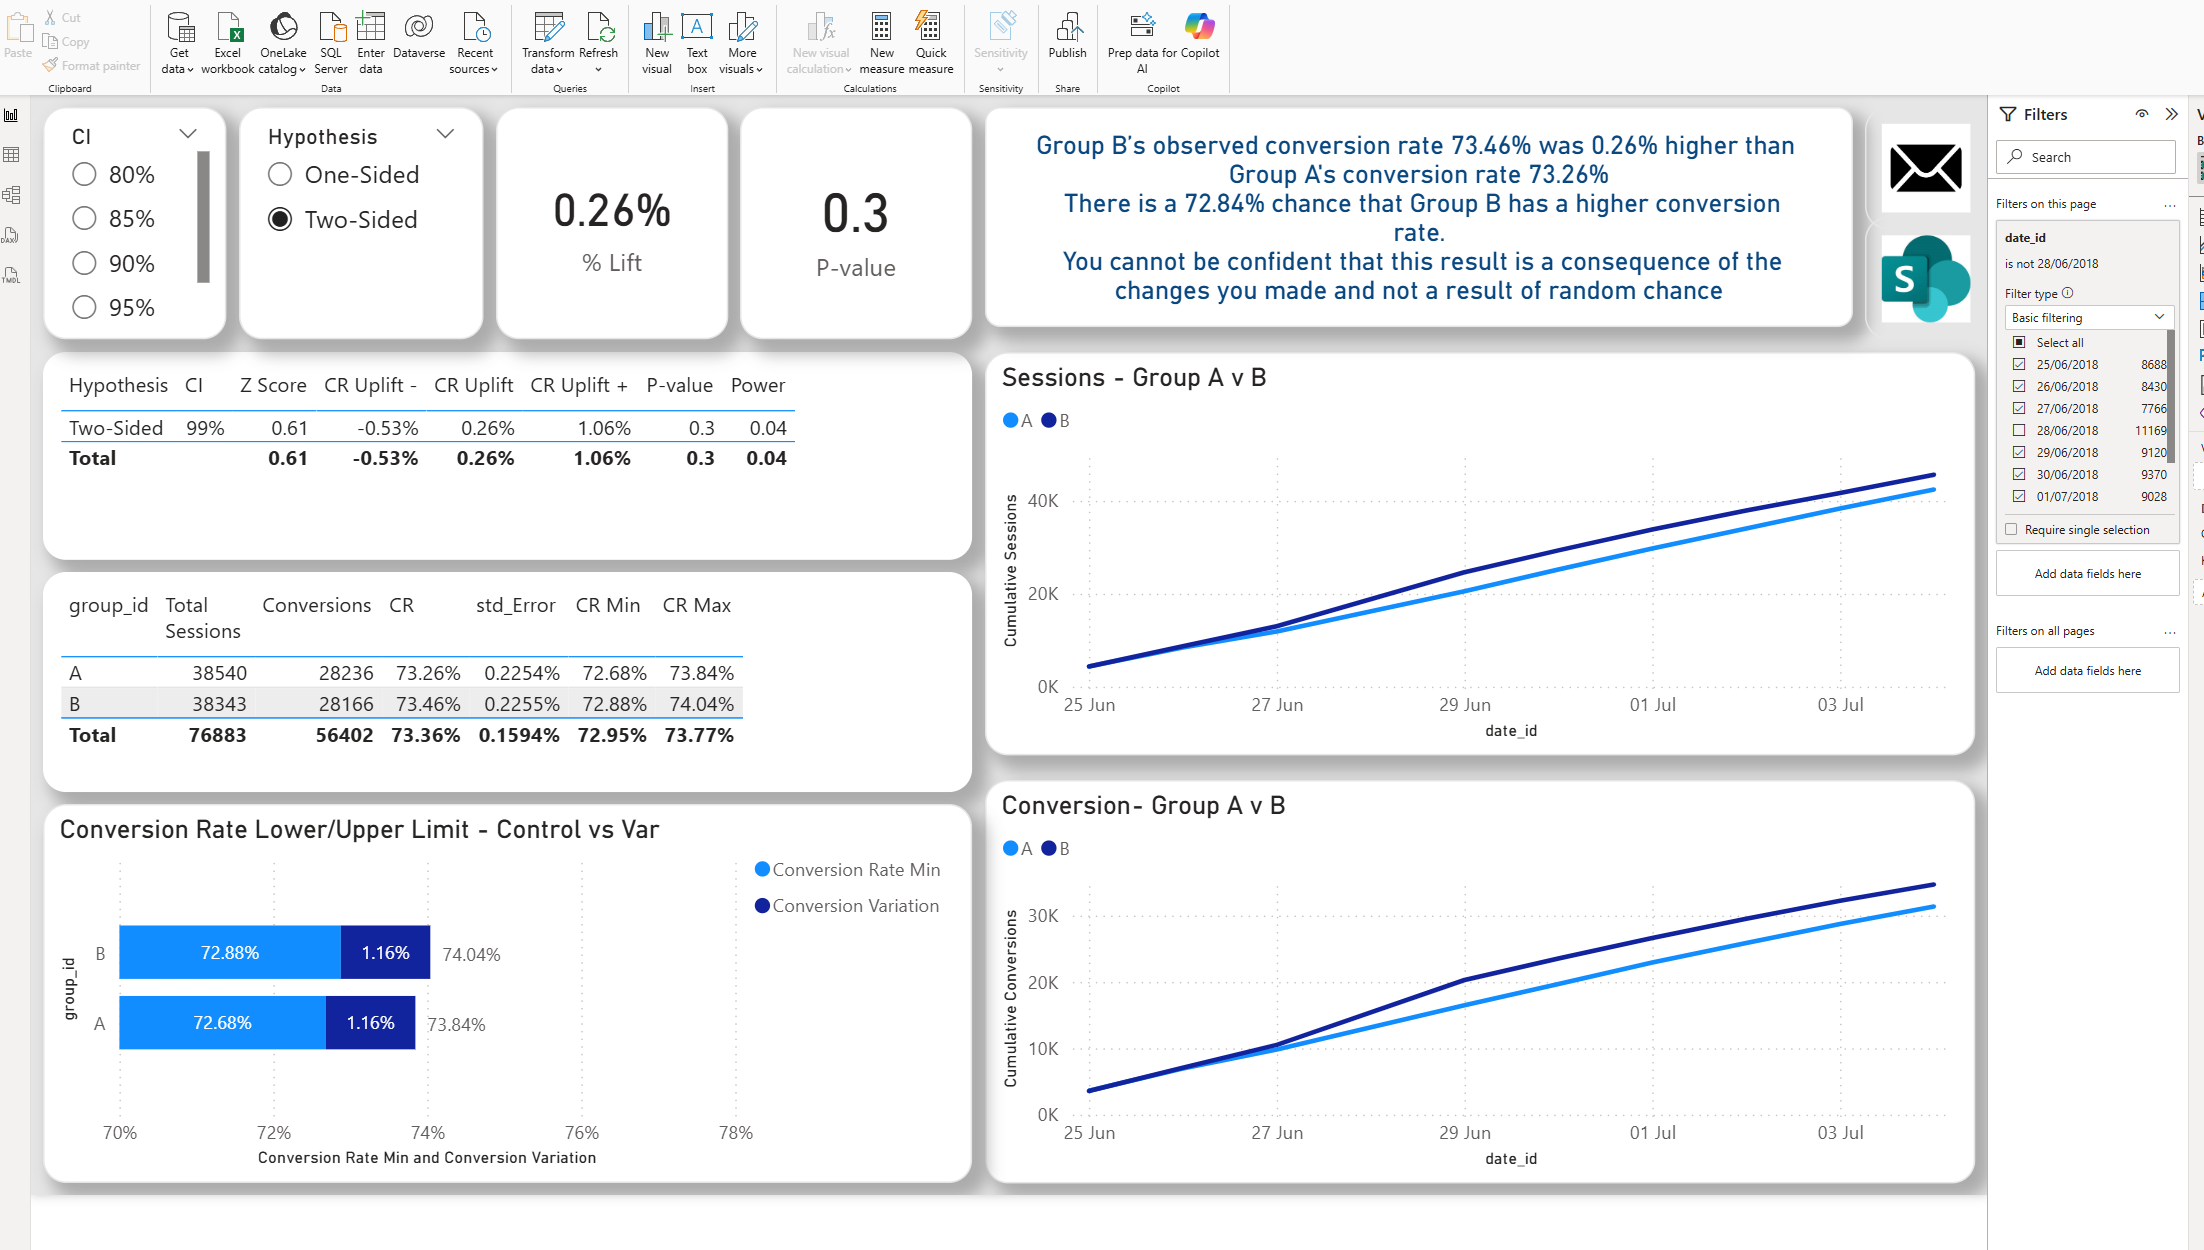

The page's visual inventory and layout, read from the dashboard file:
{"tool":"powerbi","page":{"name":"Statistics","canvas":[1280,720],"ordinal":1},"visuals":[{"type":"tableEx","fields":{"Values":["CI.Hypothesis","CI.Confidence Interval","test.Z Score","test.Var vs Ctrl % Diff Min","test.Group B vs Group A % Diff","test.B vs A % Diff Max","test.P-value","test.Power"]},"box":[8,168,608,136],"z":0},{"type":"tableEx","fields":{"Values":["test.group_id","test.Total Sessions","test.Total Success","test.Success Rate","test.std_Error","test.Conversion Rate Min","test.Conversion Rate Max"]},"box":[8,312,608,144],"z":1000},{"type":"lineChart","title":"Sessions - Group A v B","fields":{"Series":["test.group_id"],"Y":["test.Cumulative Sessions"],"Category":["test.date_id"]},"box":[624,168,648,264],"z":2000},{"type":"lineChart","title":"Conversion- Group A v B","fields":{"Series":["test.group_id"],"Category":["test.date_id"],"Y":["test.Cumulative Orders"]},"box":[624,448,648,264],"z":3000},{"type":"slicer","fields":{"Values":["Table.Confidence Interval"]},"box":[8,8,120,152],"z":4000},{"type":"slicer","fields":{"Values":["CI.Hypothesis"]},"box":[136,8,160,152],"z":5000},{"type":"card","fields":{"Values":["test.Group B vs Group A % Diff"]},"box":[304,8,152,152],"z":6000},{"type":"card","fields":{"Values":["test.P-value"]},"box":[464,8,152,152],"z":7000},{"type":"card","fields":{"Values":["test.Result Tile"]},"box":[624,8,568,144],"z":8000},{"type":"barChart","title":"Conversion Rate Lower/Upper Limit - Control vs Var","fields":{"Y":["test.Conversion Rate Min","test.SE2"],"Category":["test.group_id"]},"box":[8,464,608,248],"z":9000},{"type":"image","box":[1200,8,80,80],"z":10000},{"type":"image","box":[1200,80,80,80],"z":11000}]}

Visuals, with their boxes on the page's 1280x720 design canvas (x1, y1, x2, y2). These are canvas units, not pixel positions in the 2204x1250 screenshot, which may show the page scaled, cropped or inside an application window:
tableEx - CI.Hypothesis x CI.Confidence Interval: [left=8, top=168, right=616, bottom=304]
tableEx - test.group_id x test.Total Sessions: [left=8, top=312, right=616, bottom=456]
"Sessions - Group A v B" lineChart: [left=624, top=168, right=1272, bottom=432]
"Conversion- Group A v B" lineChart: [left=624, top=448, right=1272, bottom=712]
slicer - Table.Confidence Interval: [left=8, top=8, right=128, bottom=160]
slicer - CI.Hypothesis: [left=136, top=8, right=296, bottom=160]
card - test.Group B vs Group A % Diff: [left=304, top=8, right=456, bottom=160]
card - test.P-value: [left=464, top=8, right=616, bottom=160]
card - test.Result Tile: [left=624, top=8, right=1192, bottom=152]
"Conversion Rate Lower/Upper Limit - Control vs Var" barChart: [left=8, top=464, right=616, bottom=712]
image: [left=1200, top=8, right=1280, bottom=88]
image: [left=1200, top=80, right=1280, bottom=160]
